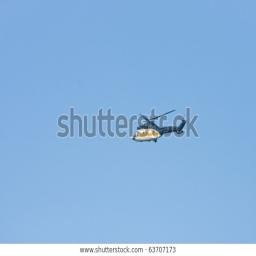helicopter: (133, 111, 188, 147)
